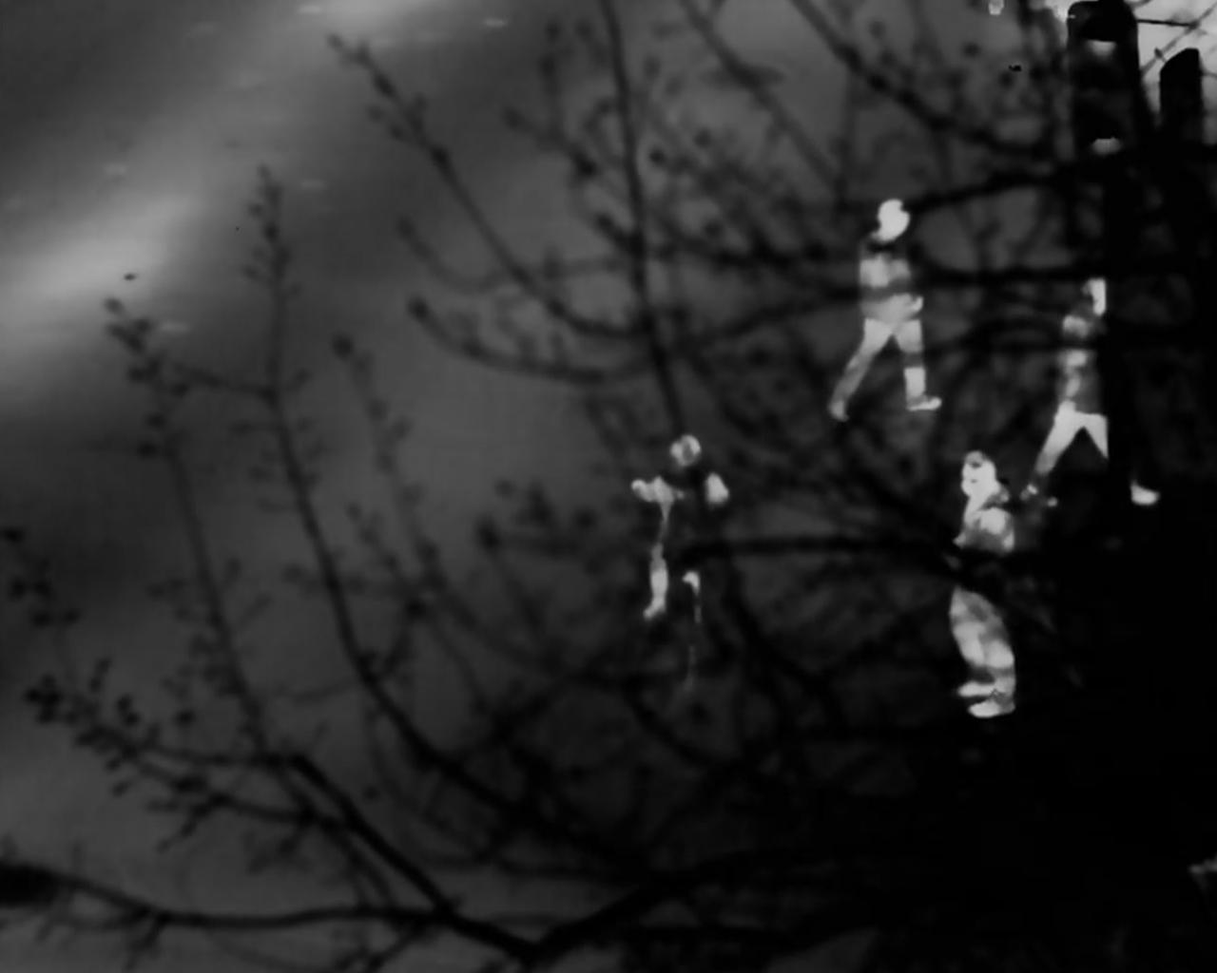person: (1032, 279, 1149, 497), (825, 197, 936, 415), (938, 448, 1025, 720), (628, 434, 735, 610)
